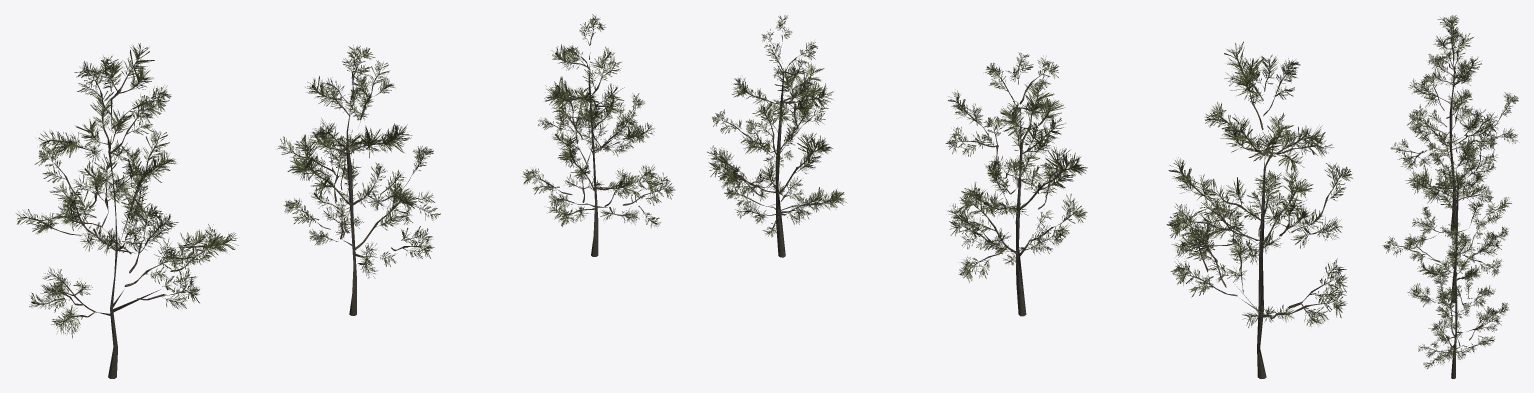
The model's file is pine_sapling_ph_1k_lod.glb.
The picture shows the model from 3 angles, left to right: view 1: azimuth 30°, elevation 25°; view 2: azimuth 150°, elevation 25°; view 3: azimuth 270°, elevation 25°; orthographic projection. The views are drawn at different scales.
Parts seen in each view (by area): view 1: pine_sapling_small_a, pine_sapling_small_b, pine_sapling_small_c; view 2: pine_sapling_small_a, pine_sapling_small_b, pine_sapling_small_c; view 3: pine_sapling_small_a, pine_sapling_small_b, pine_sapling_small_c.
Part boxes in pixels (x1=…): pine_sapling_small_a: x1=16, y1=43, x2=238, y2=378; pine_sapling_small_b: x1=276, y1=45, x2=440, y2=315; pine_sapling_small_c: x1=522, y1=14, x2=675, y2=256; pine_sapling_small_a: x1=1166, y1=41, x2=1352, y2=378; pine_sapling_small_b: x1=945, y1=52, x2=1087, y2=316; pine_sapling_small_c: x1=707, y1=15, x2=846, y2=257; pine_sapling_small_a: x1=1390, y1=15, x2=1518, y2=230; pine_sapling_small_b: x1=1382, y1=133, x2=1511, y2=303; pine_sapling_small_c: x1=1407, y1=222, x2=1508, y2=378.
Bounding box in the file's own units: 2.64 × 1.3 × 0.7703.
Materials: 2 (2 with a texture image).
